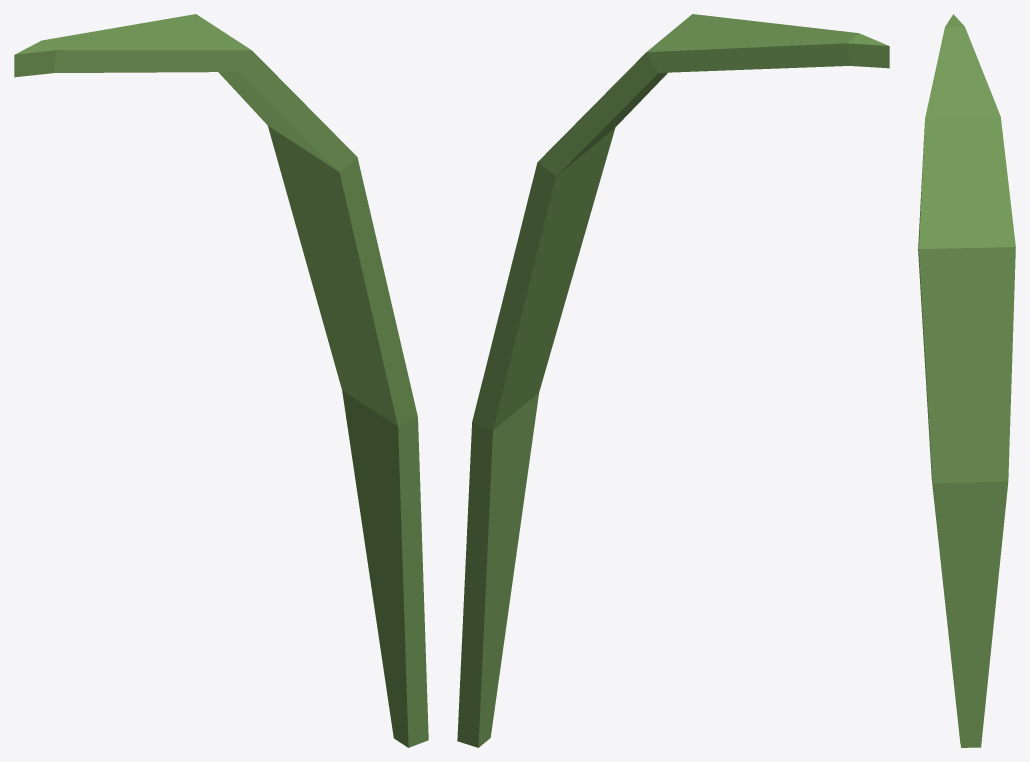
File: Wheat_1.glb
3 views of the same model, side by side, from view 1: azimuth 30°, elevation 25°; view 2: azimuth 150°, elevation 25°; view 3: azimuth 270°, elevation 25° (orthographic). The views are drawn at different scales.
Visible parts, largest first — view 1: Wheat_1_Plane.001; view 2: Wheat_1_Plane.001; view 3: Wheat_1_Plane.001.
Boxes of the visible parts, <box> form: Wheat_1_Plane.001: <box>14,14,428,747</box>; Wheat_1_Plane.001: <box>457,14,889,747</box>; Wheat_1_Plane.001: <box>918,14,1015,747</box>.
Bounding box in the file's own units: 0.1214 × 0.2194 × 0.0333.
